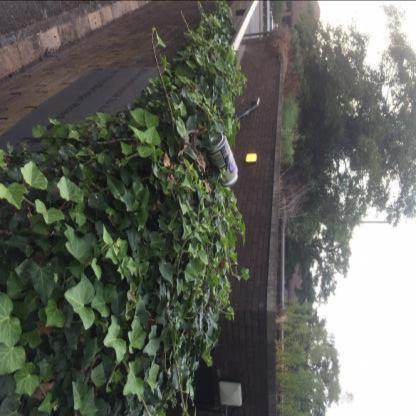Can: (207, 134, 238, 187)
